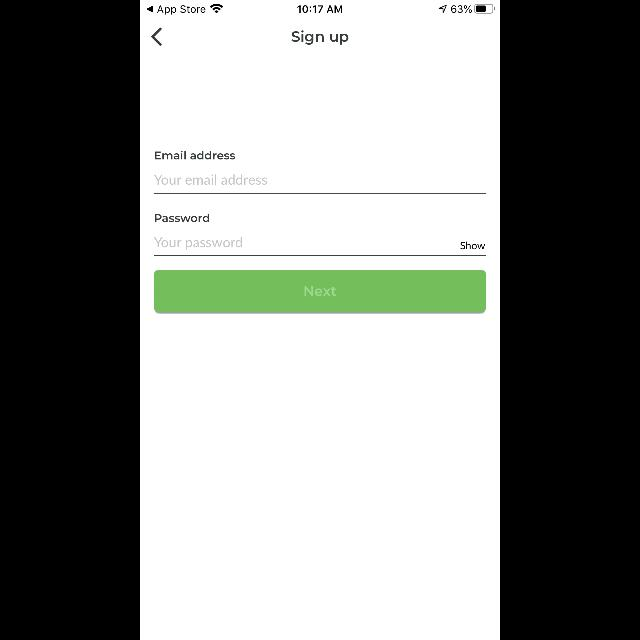icon: (151, 28, 161, 46)
input: (154, 174, 486, 193), (154, 238, 486, 256)
text: (154, 237, 242, 250), (154, 175, 266, 185), (292, 30, 348, 46), (155, 150, 235, 160), (155, 214, 209, 222), (461, 242, 485, 250)
textbutton: (154, 270, 486, 314)
uppertaskbar: (140, 1, 500, 15)
